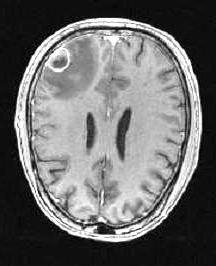Normal_Brain: (1, 1, 214, 266)
